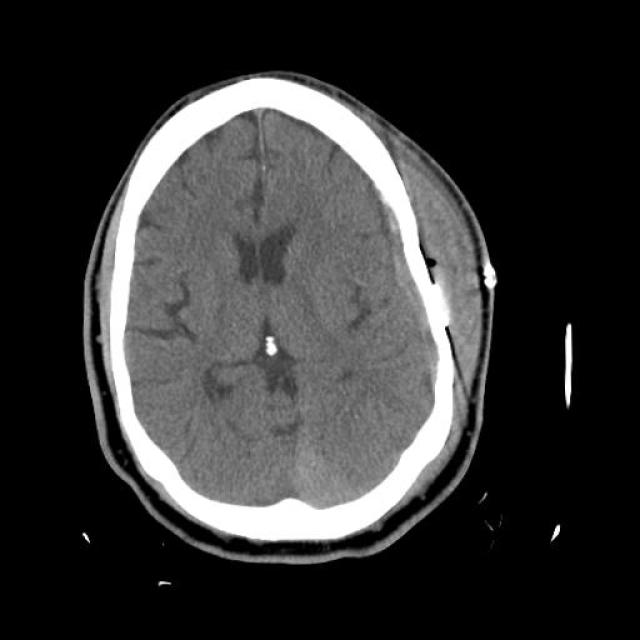Subdural: (378, 184, 462, 384)
